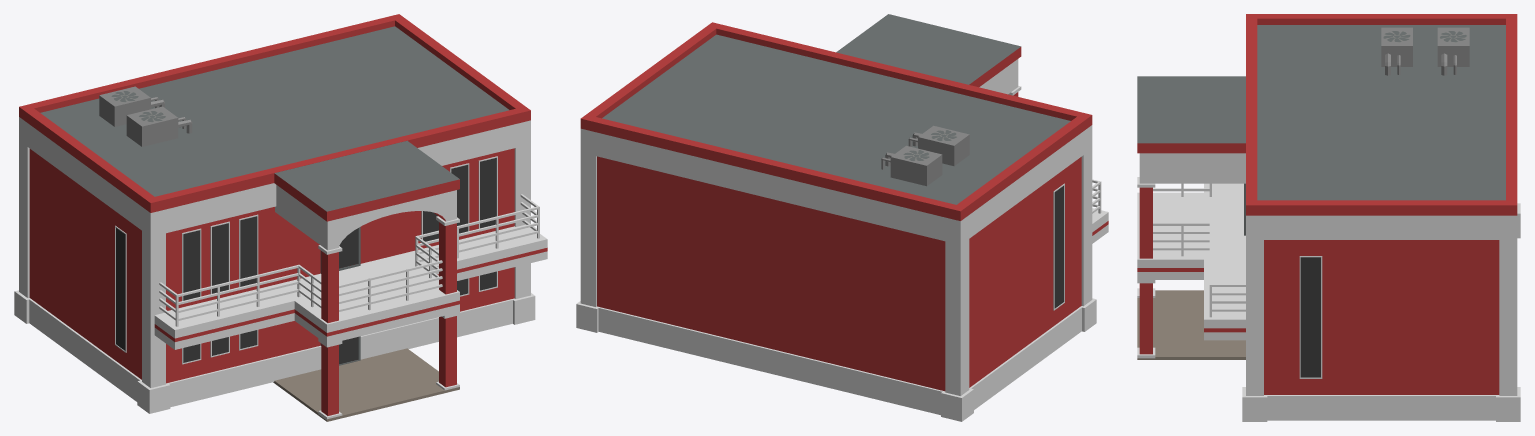
The model's file is building-house-03-color03.glb.
3 renders of one model, left to right at view 1: azimuth 30°, elevation 25°; view 2: azimuth 150°, elevation 25°; view 3: azimuth 270°, elevation 25°, orthographic. The views are drawn at different scales.
Parts seen in each view (by area): view 1: model; view 2: model; view 3: model.
Boxes of the visible parts, x1,y1,x2,y2 form: model: [14, 14, 547, 421]; model: [576, 14, 1108, 421]; model: [1137, 14, 1520, 421].
Size of the model in its own units: 17.26 by 9.61 by 14.41.
Materials: 1 (1 with a texture image).
